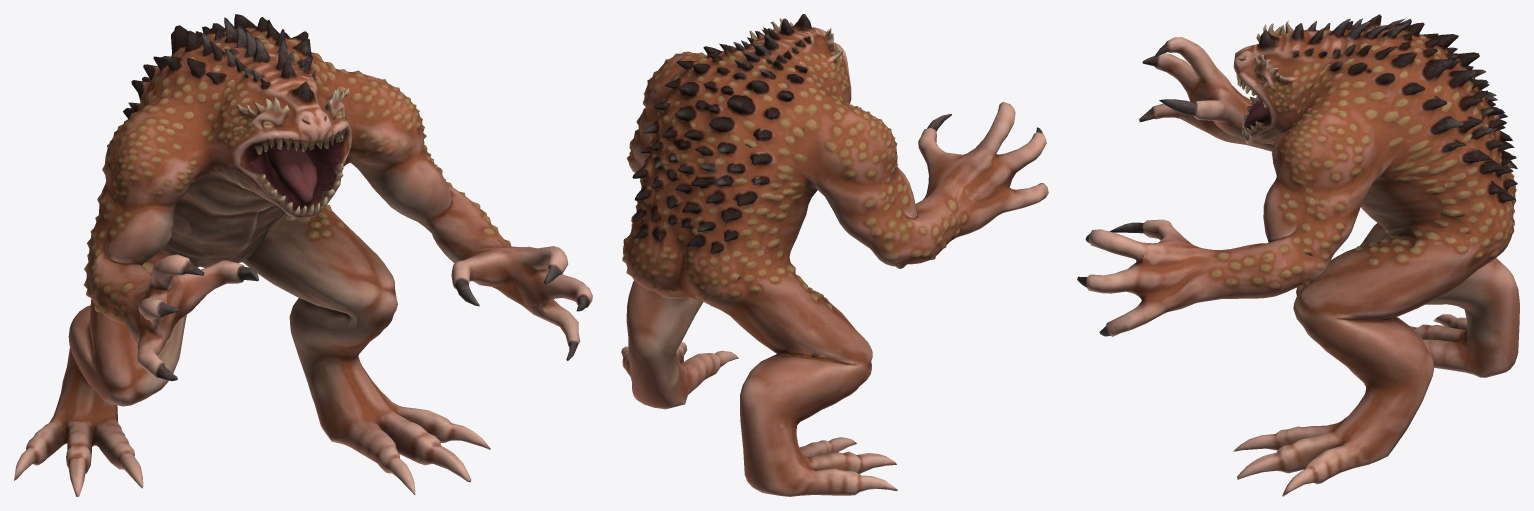
File: MZ4250 - Hezrou.glb
3 renders of one model, left to right at view 1: azimuth 30°, elevation 25°; view 2: azimuth 150°, elevation 25°; view 3: azimuth 270°, elevation 25°, orthographic. The views are drawn at different scales.
Parts seen in each view (by area): view 1: gphezrou01; view 2: gphezrou01; view 3: gphezrou01.
Part boxes in pixels (<box>): gphezrou01: <box>14,14,592,496</box>; gphezrou01: <box>621,14,1048,496</box>; gphezrou01: <box>1077,14,1519,496</box>.
Size of the model in its own units: 1.08 by 1.09 by 1.11.
1 material, 1 textured.
